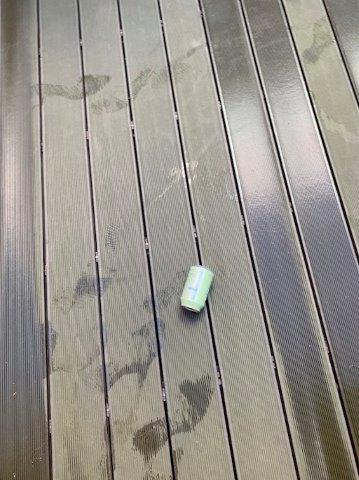kaleng: (181, 265, 213, 312)
